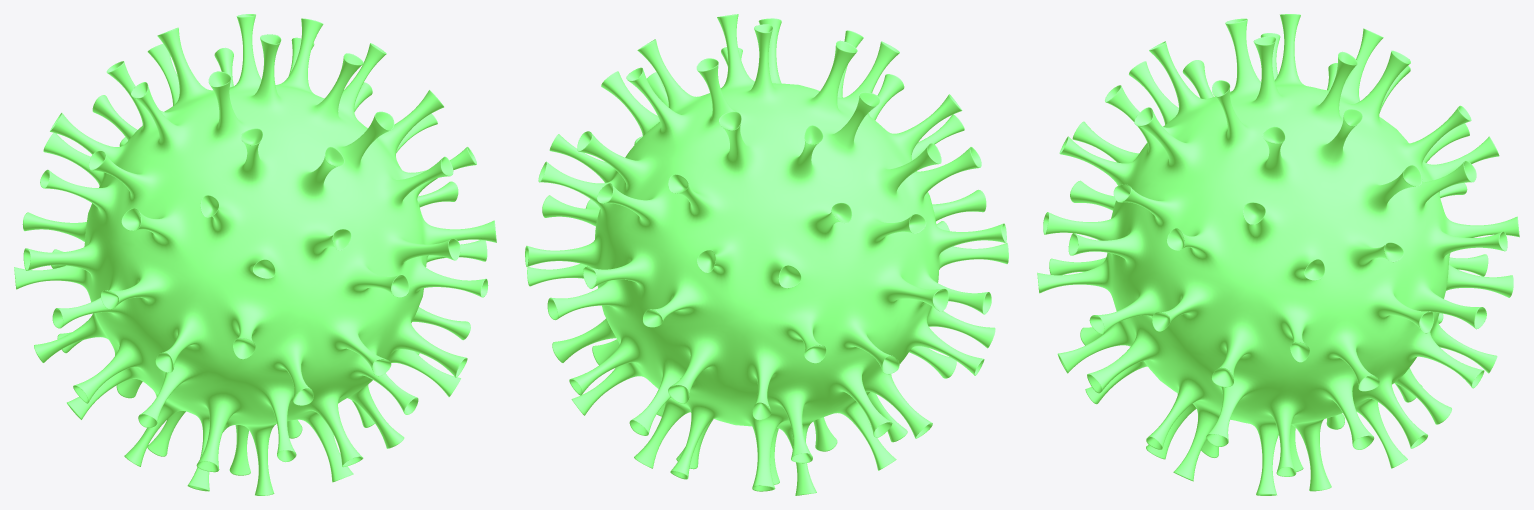
File: Virus3 (1).fbx
The picture shows the model from 3 angles, left to right: view 1: azimuth 30°, elevation 25°; view 2: azimuth 150°, elevation 25°; view 3: azimuth 270°, elevation 25°; orthographic projection.
Visible parts, largest first — view 1: Icosphere; view 2: Icosphere; view 3: Icosphere.
Boxes of the visible parts, bbox=[...] form: Icosphere: bbox=[14, 14, 496, 495]; Icosphere: bbox=[525, 14, 1008, 495]; Icosphere: bbox=[1037, 14, 1519, 495].
Size of the model in its own units: 269 by 269 by 268.
